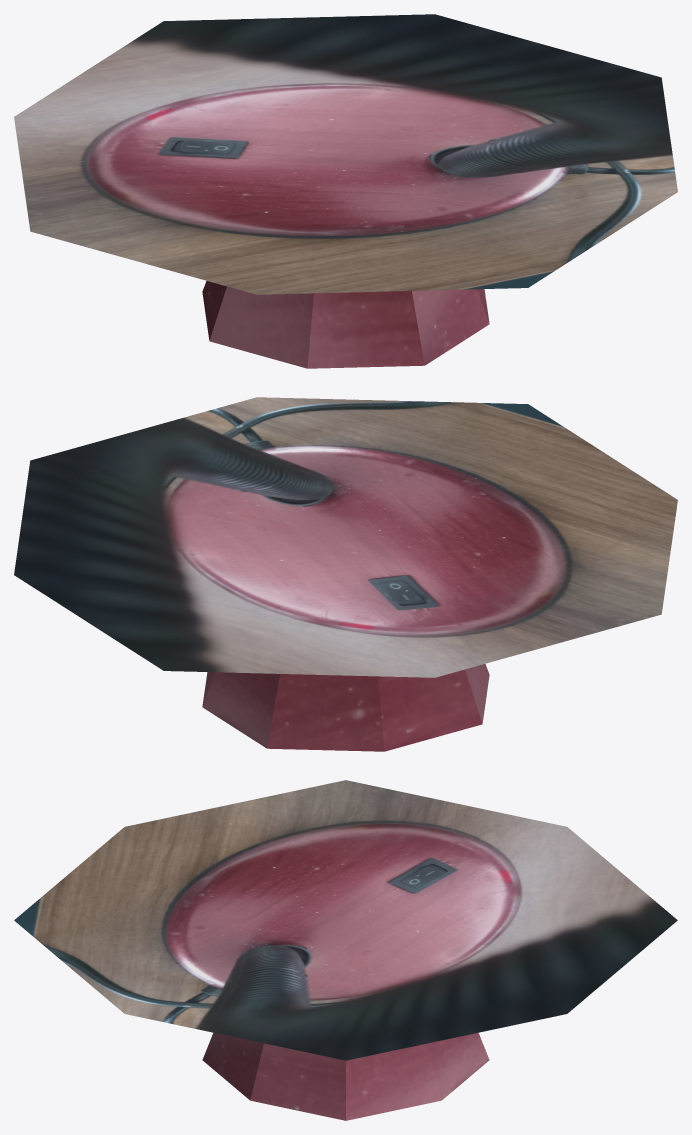
File: TavanLamba.fbx
The picture shows the model from 3 angles, top to bottom: view 1: azimuth 30°, elevation 25°; view 2: azimuth 150°, elevation 25°; view 3: azimuth 270°, elevation 25°; orthographic projection. The views are drawn at different scales.
Visible parts, largest first — view 1: Cube; view 2: Cube; view 3: Cube.
Part boxes in pixels (x1,y1,x2,y2): Cube: (14,14,677,368); Cube: (14,397,677,751); Cube: (14,780,677,1120).
Size of the model in its own units: 379 by 88.12 by 379.
